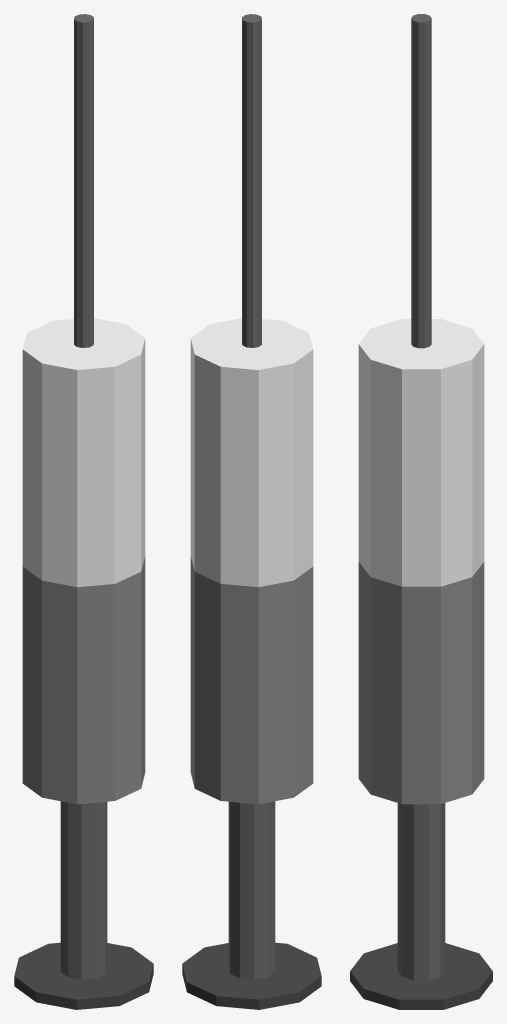
The model's file is Syringe.fbx.
3 renders of one model, left to right at view 1: azimuth 30°, elevation 25°; view 2: azimuth 150°, elevation 25°; view 3: azimuth 270°, elevation 25°, orthographic.
Parts seen in each view (by area): view 1: Circle; view 2: Circle; view 3: Circle.
Part boxes in pixels (x1=…): Circle: x1=14, y1=14, x2=153, y2=1009; Circle: x1=182, y1=14, x2=321, y2=1009; Circle: x1=350, y1=14, x2=492, y2=1009.
Size of the model in its own units: 190 by 1489 by 200.
1 material, 1 textured.
